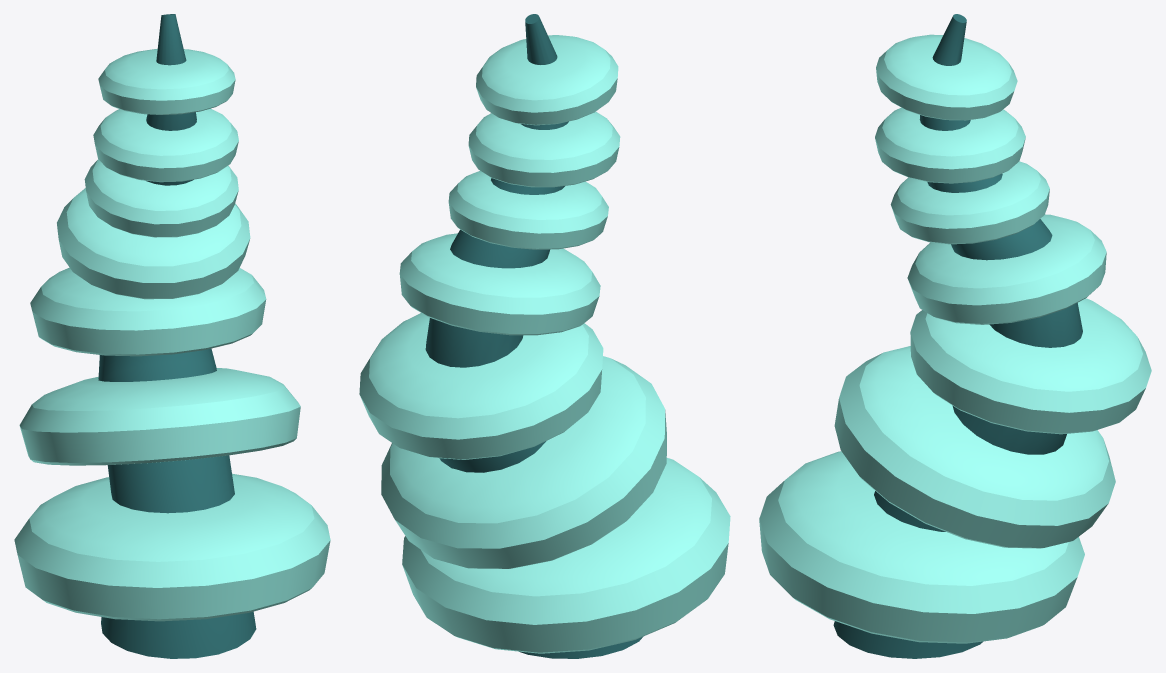
The model's file is Tree04.fbx.
The picture shows the model from 3 angles, left to right: view 1: azimuth 30°, elevation 25°; view 2: azimuth 150°, elevation 25°; view 3: azimuth 270°, elevation 25°; orthographic projection. The views are drawn at different scales.
Visible parts, largest first — view 1: polySurface3; view 2: polySurface3; view 3: polySurface3.
Boxes of the visible parts, x1=… form: polySurface3: x1=14, y1=14, x2=330, y2=658; polySurface3: x1=359, y1=14, x2=730, y2=658; polySurface3: x1=759, y1=14, x2=1151, y2=658.
Size of the model in its own units: 96.04 by 198 by 115.
